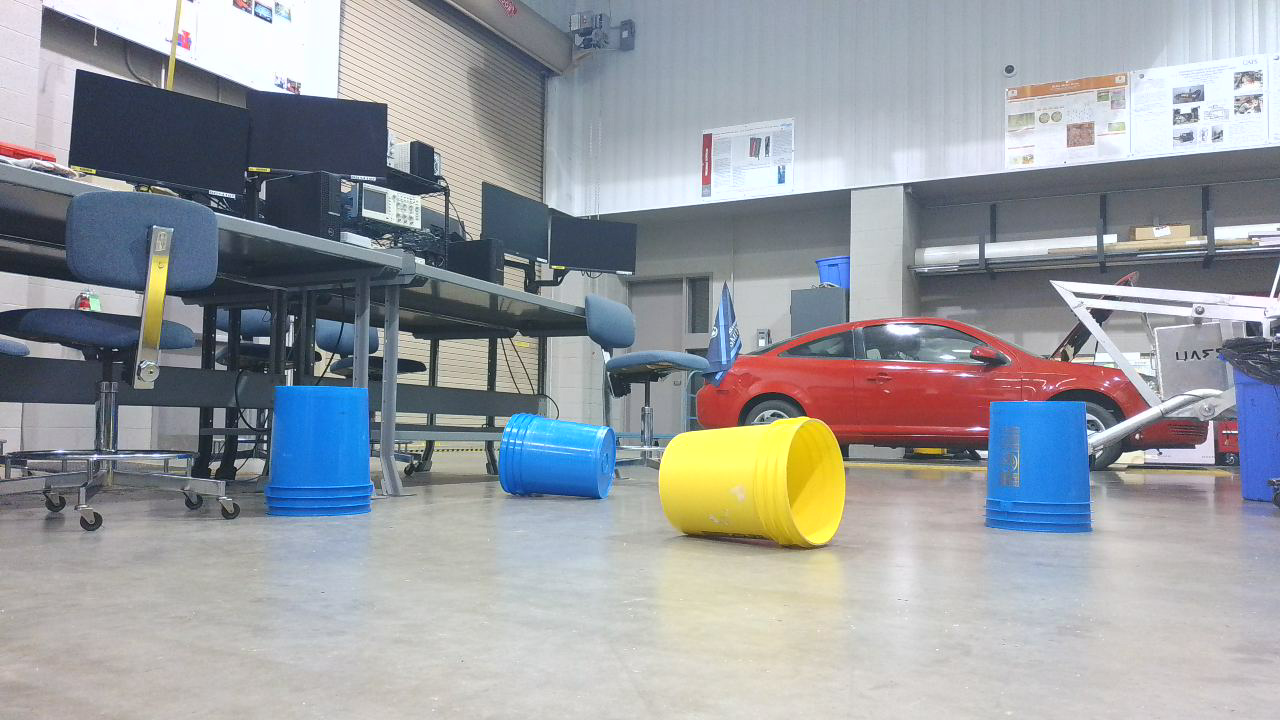blue_bucket: (982, 401, 1104, 541), (266, 387, 380, 528), (499, 411, 626, 507)
yellow_bucket: (660, 417, 854, 558)
